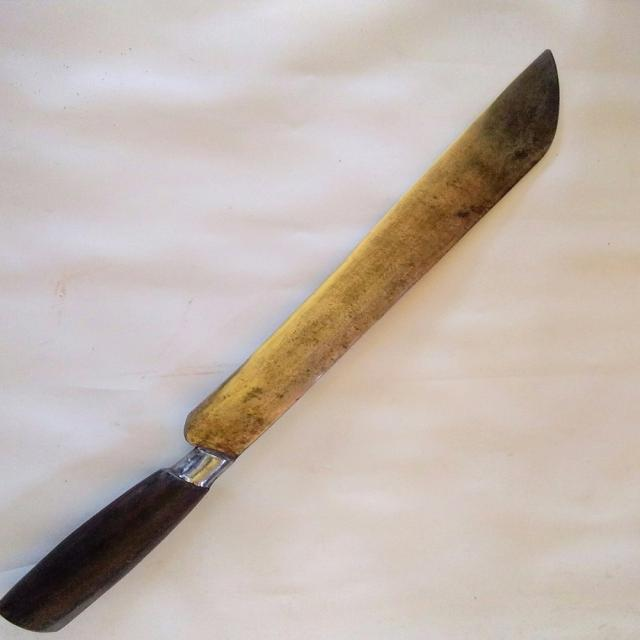Pisau: (4, 52, 570, 622)
